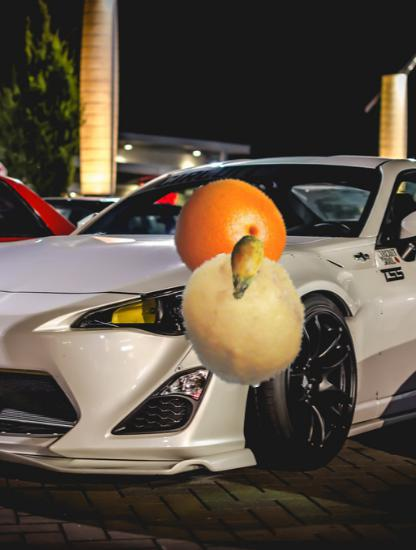Cactus: (211, 234, 279, 302)
Grapefruit: (172, 178, 286, 292)
Lemon: (175, 250, 313, 388)
